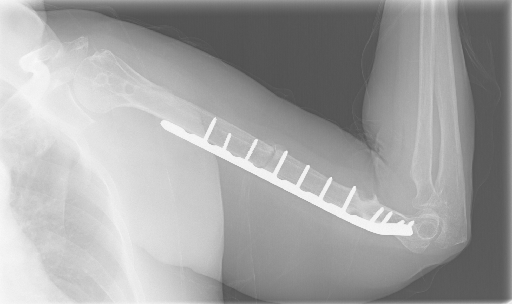implant: (160, 114, 414, 236)
